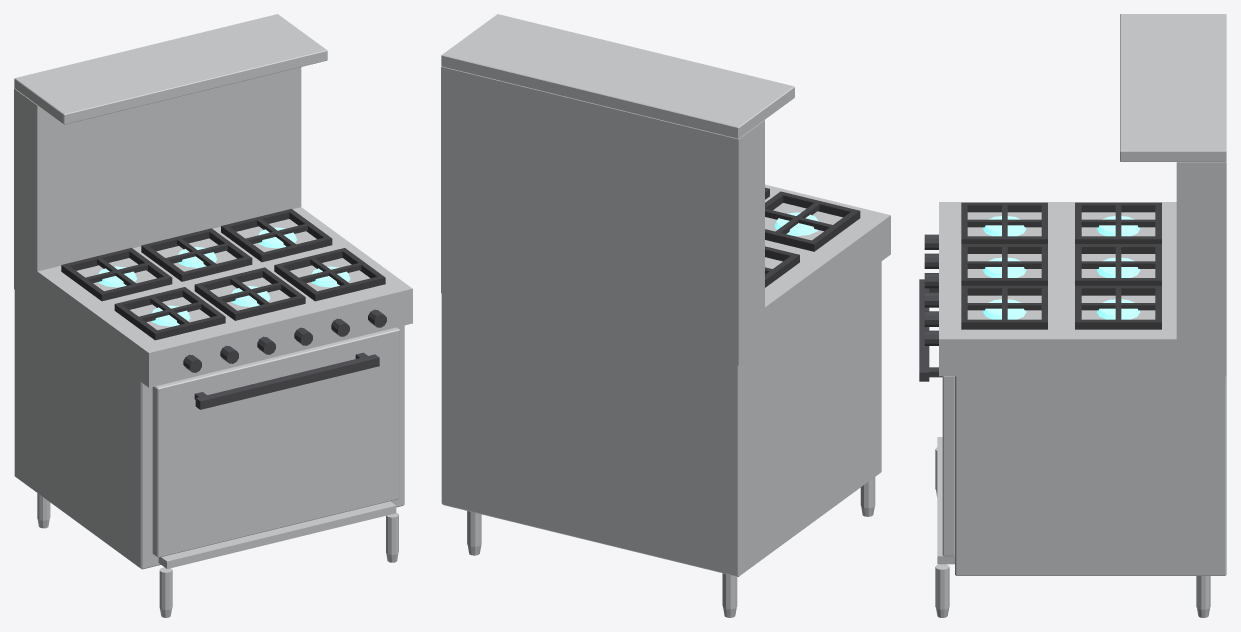
The model's file is NSF-RANGE-GAS-6B.glb.
3 views of the same model, side by side, from view 1: azimuth 30°, elevation 25°; view 2: azimuth 150°, elevation 25°; view 3: azimuth 270°, elevation 25° (orthographic). The views are drawn at different scales.
Parts seen in each view (by area): view 1: asset_nsf_range_gas_6b, asset_nsf_range_gas_6b_oven_door, asset_nsf_range_gas_6b_burner_knobs; view 2: asset_nsf_range_gas_6b; view 3: asset_nsf_range_gas_6b, asset_nsf_range_gas_6b_oven_door, asset_nsf_range_gas_6b_burner_knobs.
Boxes of the visible parts, left/top/right/bottom form: asset_nsf_range_gas_6b: left=14, top=14, right=412, bottom=617; asset_nsf_range_gas_6b_oven_door: left=152, top=327, right=399, bottom=557; asset_nsf_range_gas_6b_burner_knobs: left=183, top=309, right=386, bottom=372; asset_nsf_range_gas_6b: left=441, top=14, right=890, bottom=617; asset_nsf_range_gas_6b: left=935, top=14, right=1226, bottom=617; asset_nsf_range_gas_6b_oven_door: left=919, top=279, right=954, bottom=556; asset_nsf_range_gas_6b_burner_knobs: left=924, top=234, right=938, bottom=345.
Size of the model in its own units: 0.914 by 1.47 by 0.864.
